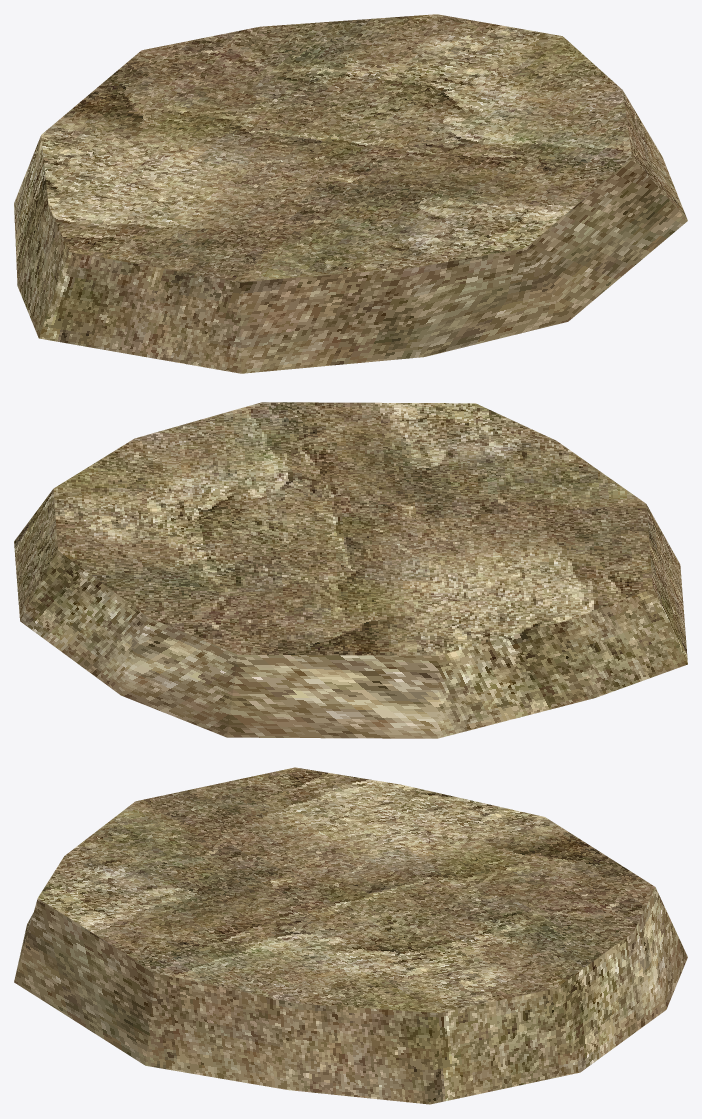
Rendered from stage-east-p7-129.glb.
3 views of the same model, one above another, from view 1: azimuth 30°, elevation 25°; view 2: azimuth 150°, elevation 25°; view 3: azimuth 270°, elevation 25° (orthographic). The views are drawn at different scales.
Bounding box in the file's own units: 9.23 × 1.42 × 8.59.
1 material, 1 textured.
